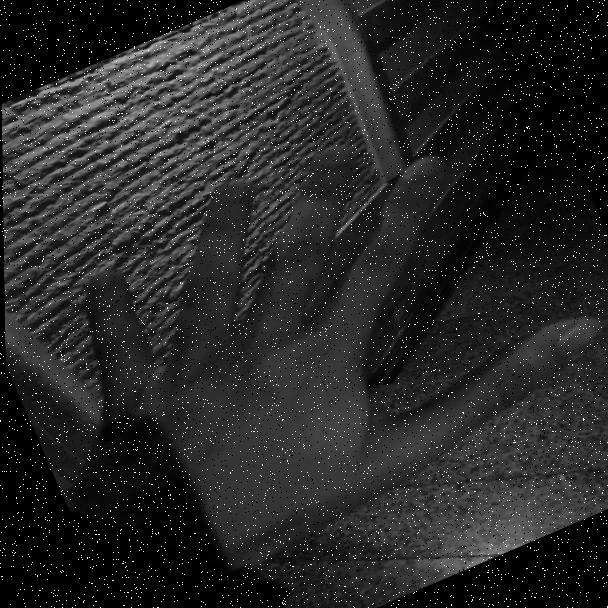five: (15, 64, 608, 608)
